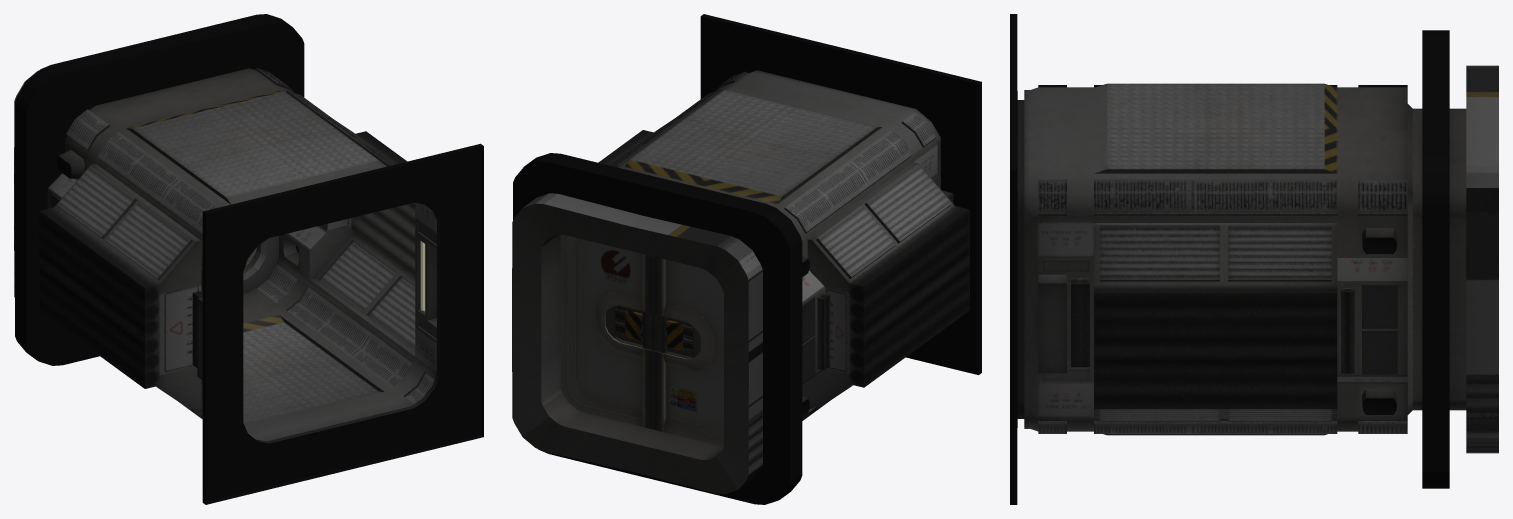
File: airlock.FBX
The picture shows the model from 3 angles, left to right: view 1: azimuth 30°, elevation 25°; view 2: azimuth 150°, elevation 25°; view 3: azimuth 270°, elevation 25°; orthographic projection. The views are drawn at different scales.
Visible parts, largest first — view 1: airlock_chamber; view 2: airlock_chamber, door_right, door_left, bolt_right, bolt_left; view 3: airlock_chamber.
Part boxes in pixels (left/top/right/bottom): airlock_chamber: left=14, top=14, right=483, bottom=504; airlock_chamber: left=512, top=14, right=981, bottom=504; door_right: left=560, top=234, right=654, bottom=429; door_left: left=653, top=256, right=723, bottom=445; bolt_right: left=615, top=309, right=642, bottom=340; bolt_left: left=665, top=320, right=692, bottom=351; airlock_chamber: left=1010, top=14, right=1498, bottom=504.
Size of the model in its own units: 3055 by 2606 by 3440.
Materials: 1 (1 with a texture image).
